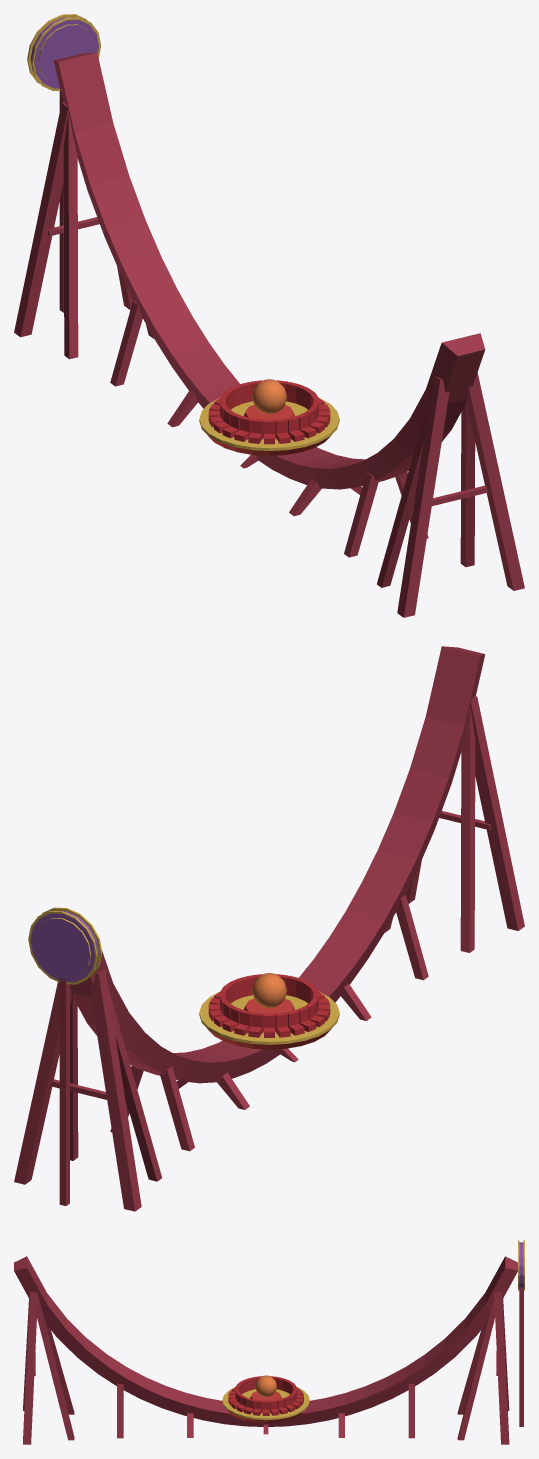
Rendered from nyc-electro-spin.glb.
3 views of the same model, one above another, from view 1: azimuth 30°, elevation 25°; view 2: azimuth 150°, elevation 25°; view 3: azimuth 270°, elevation 25° (orthographic). The views are drawn at different scales.
Parts seen in each view (by area): view 1: Electro Spin, disc; view 2: Electro Spin, disc; view 3: Electro Spin, disc.
Boxes of the visible parts, box(x1,y1,x2,y2) form: Electro Spin: box(14, 14, 524, 617); disc: box(207, 379, 331, 455); Electro Spin: box(14, 646, 524, 1211); disc: box(207, 973, 331, 1049); Electro Spin: box(14, 1240, 524, 1444); disc: box(227, 1375, 303, 1423).
Bounding box in the file's own units: 7.5 × 17.35 × 43.82.
